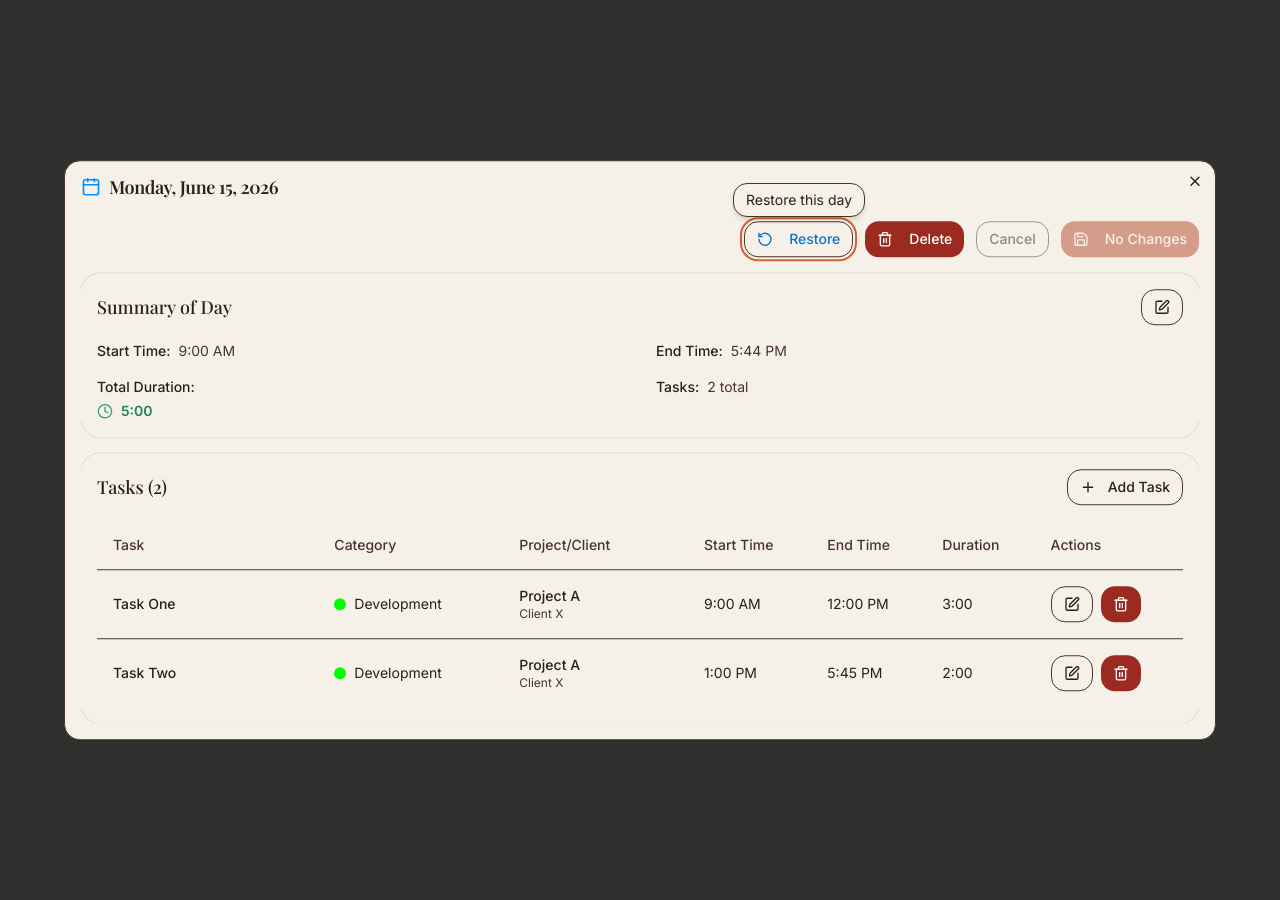
it: ArchiveEditDialog › rejects a day end time before the start time and keeps the editor open with the error
The image size is (1280, 900).
Click the button named "Edit day summary" at coordinates (1162, 307), box [1141, 289, 1183, 325]
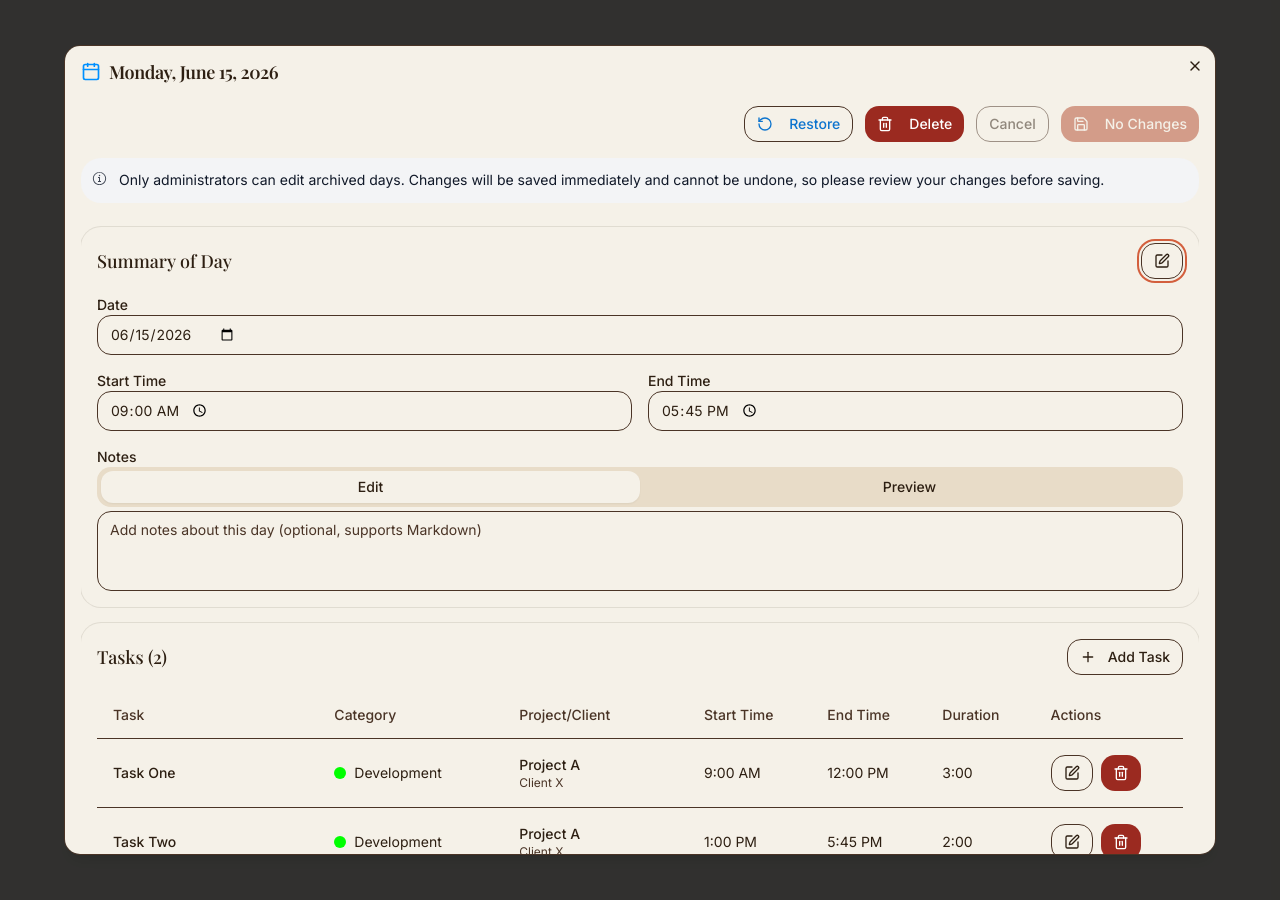
Replace the text in the time field named "Day end time" with "08:00" at coordinates (916, 411), box [648, 391, 1183, 431]
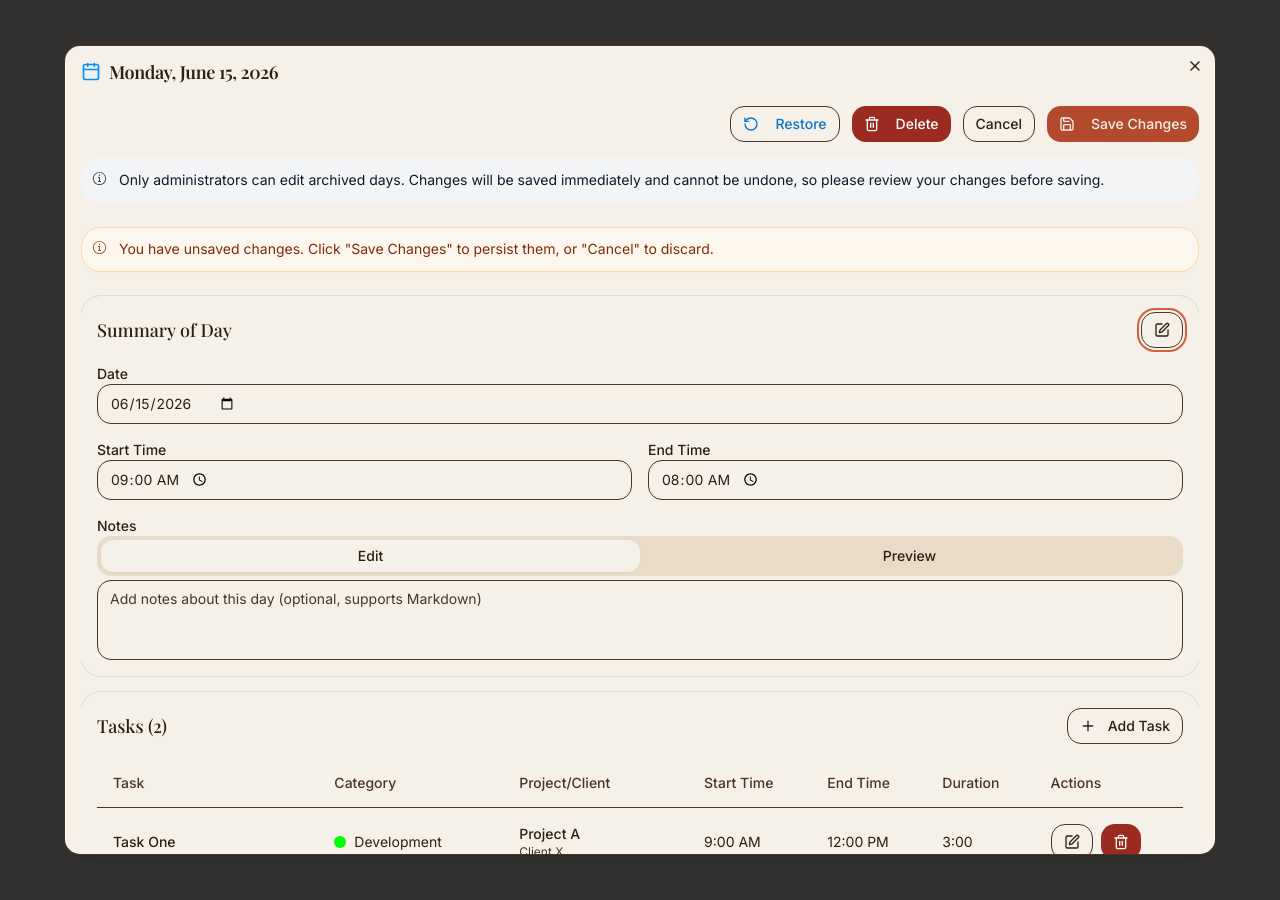
Click the button "Save Changes" at coordinates (1123, 124), box [1047, 106, 1199, 142]
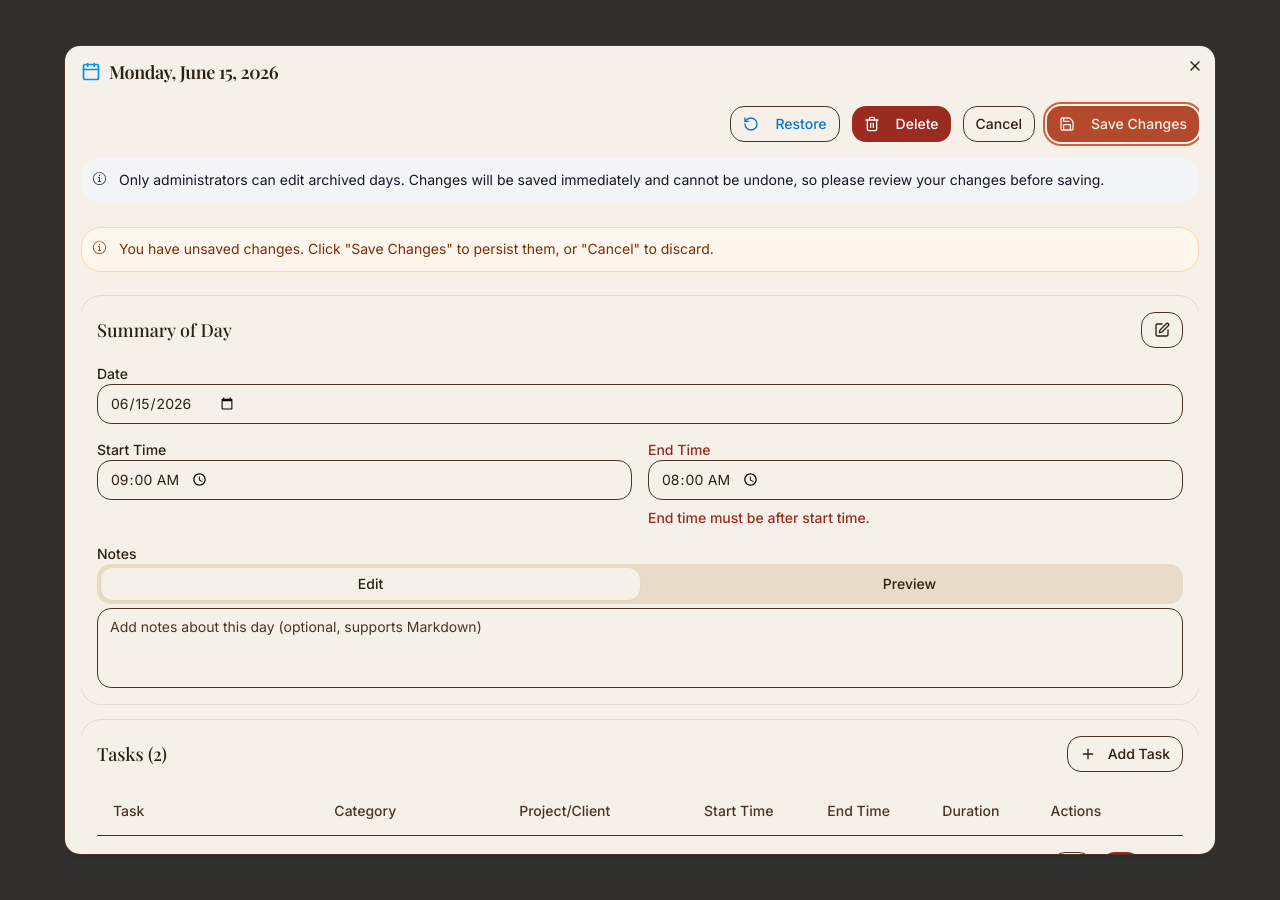
Expected: the text "End time must be after start time." is shown, [648, 508, 870, 526]
